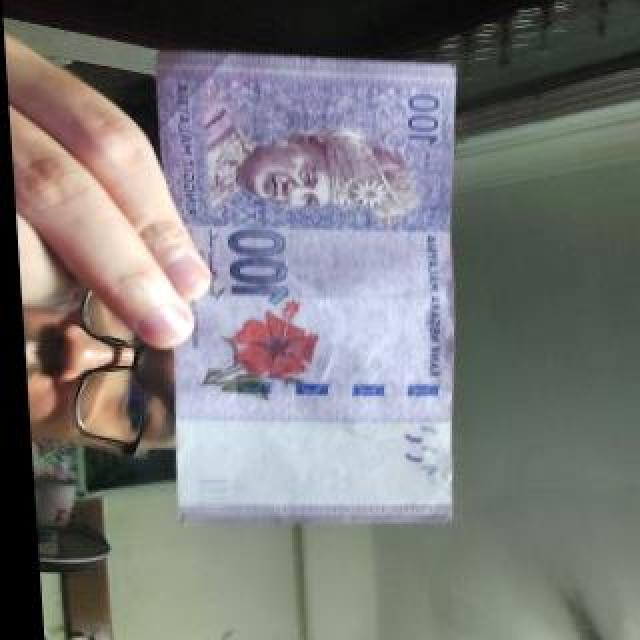100 Ringgit: (152, 58, 481, 530)
